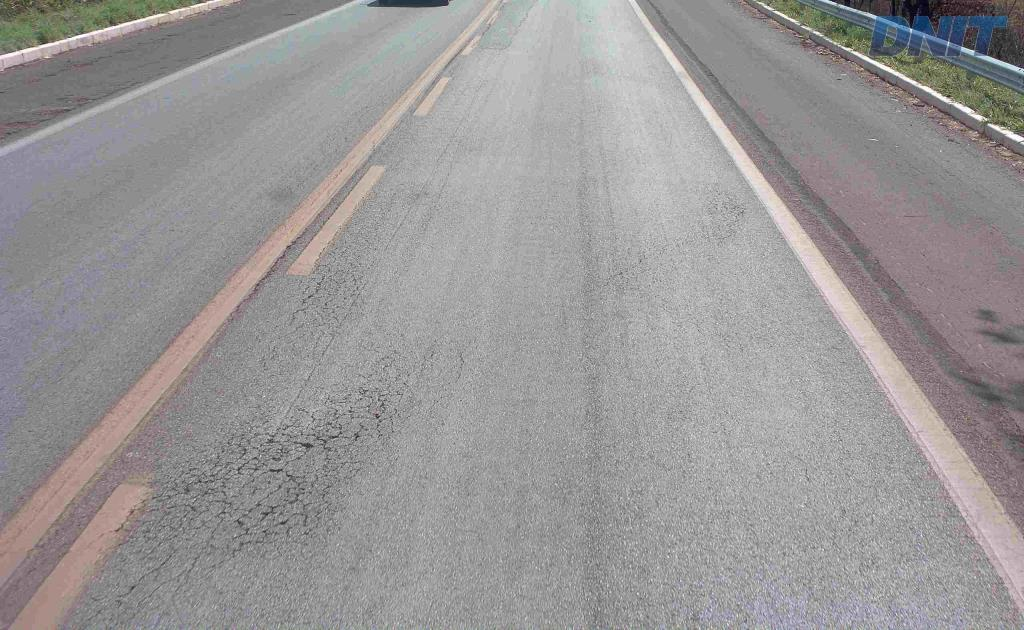crack: (151, 460, 249, 508)
